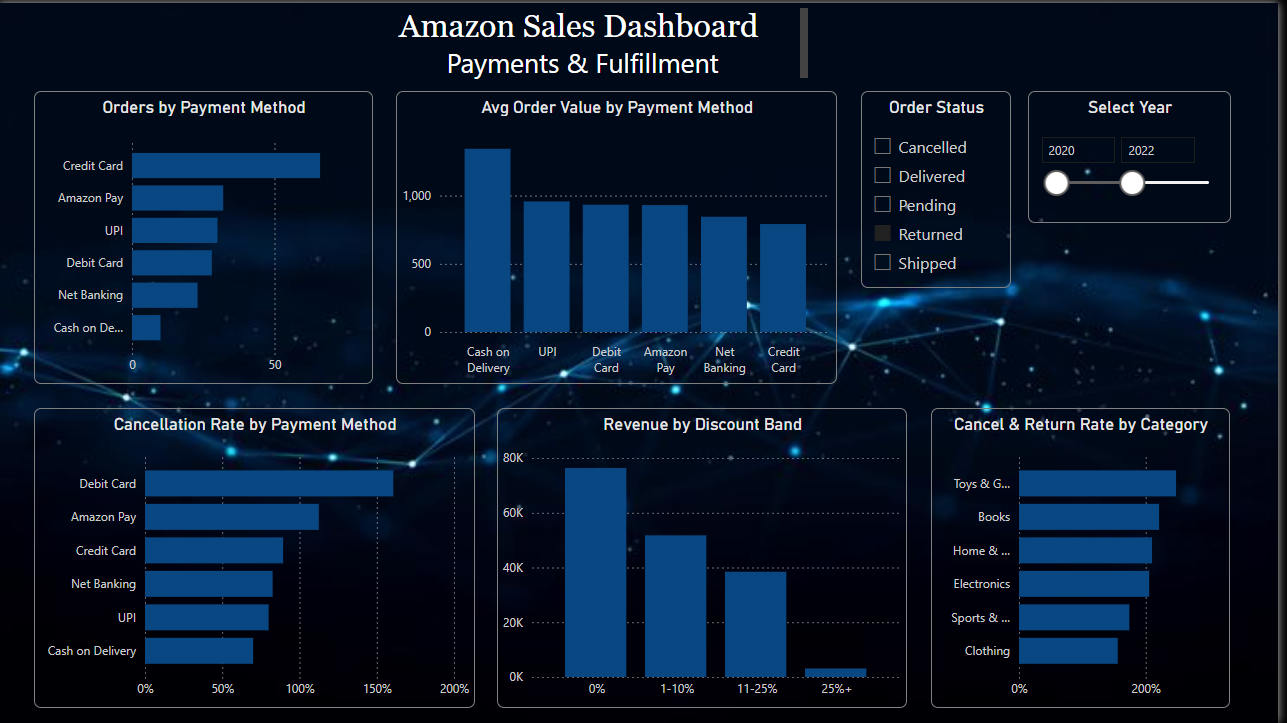

The page's visual inventory and layout, read from the dashboard file:
{"tool":"powerbi","page":{"name":"Payments & Fulfillment","canvas":[1280,720],"ordinal":3},"visuals":[{"type":"textbox","box":[362.8,0,452.5,80.6],"z":0},{"type":"clusteredBarChart","title":"Orders by Payment Method","fields":{"Category":["amazon_sales_clean.PaymentMethod"],"Y":["amazon_sales_clean.Total Orders"]},"box":[36.3,87.7,338.6,293.3],"z":1000},{"type":"clusteredColumnChart","title":"Avg Order Value by Payment Method","fields":{"Category":["amazon_sales_clean.PaymentMethod"],"Y":["amazon_sales_clean.Avg Order Value"]},"box":[398.1,87.7,440.4,293.3],"z":2000},{"type":"clusteredBarChart","title":"Cancellation Rate by Payment Method","fields":{"Category":["amazon_sales_clean.PaymentMethod"],"Y":["amazon_sales_clean.Cancellation Rate"]},"box":[36.3,405.2,441,300],"z":3000},{"type":"clusteredBarChart","title":"Cancel & Return Rate by Category","fields":{"Category":["amazon_sales_clean.Category"],"Y":["amazon_sales_clean.Cancel/Return Rate"]},"box":[933.3,405.2,299,300],"z":4000},{"type":"clusteredColumnChart","title":"Revenue by Discount Band","fields":{"Category":["amazon_sales_clean.Discount Band"],"Y":["amazon_sales_clean.Total Revenue"]},"box":[498.9,405.2,410,300],"z":5000},{"type":"slicer","title":"Order Status","fields":{"Values":["amazon_sales_clean.OrderStatus"]},"box":[862.7,87.7,150.2,197.5],"z":6000},{"type":"slicer","title":"Select Year","fields":{"Values":["DateTable.Year"]},"box":[1030,87.7,202.6,132],"z":7000}]}

Visuals, with their boxes in screenshot pixels (x1, y1, x2, y2), scaled from the page's 1280x720 canvas onto the 1287x723 screenshot:
textbox: detection(365, 0, 820, 81)
"Orders by Payment Method" clusteredBarChart: detection(36, 88, 377, 383)
"Avg Order Value by Payment Method" clusteredColumnChart: detection(400, 88, 843, 383)
"Cancellation Rate by Payment Method" clusteredBarChart: detection(36, 407, 480, 708)
"Cancel & Return Rate by Category" clusteredBarChart: detection(938, 407, 1239, 708)
"Revenue by Discount Band" clusteredColumnChart: detection(502, 407, 914, 708)
"Order Status" slicer: detection(867, 88, 1018, 286)
"Select Year" slicer: detection(1036, 88, 1239, 221)
